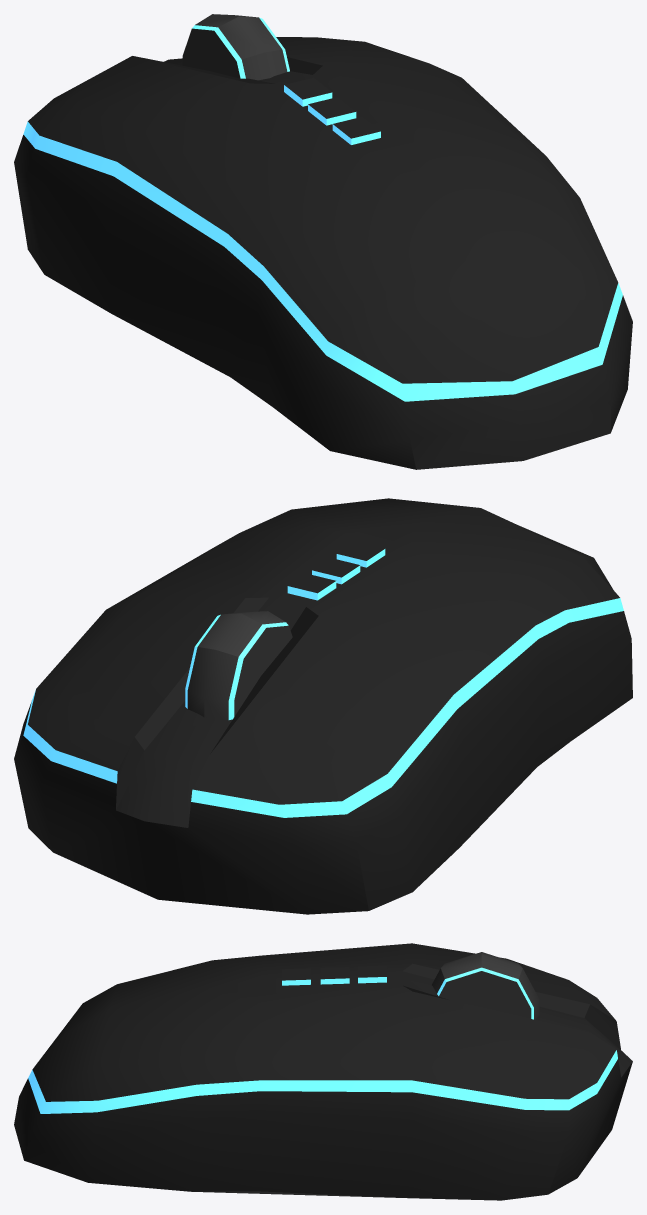
File: mouse_3.glb
The picture shows the model from 3 angles, top to bottom: view 1: azimuth 30°, elevation 25°; view 2: azimuth 150°, elevation 25°; view 3: azimuth 270°, elevation 25°; orthographic projection. The views are drawn at different scales.
Parts seen in each view (by area): view 1: PC Mouse 2; view 2: PC Mouse 2; view 3: PC Mouse 2.
Boxes of the visible parts, x1,y1,x2,y2 form: PC Mouse 2: (14,14,632,469); PC Mouse 2: (14,498,632,914); PC Mouse 2: (14,943,632,1200).
Size of the model in its own units: 0.0945 by 0.0537 by 0.1724.
2 materials, 1 textured.
